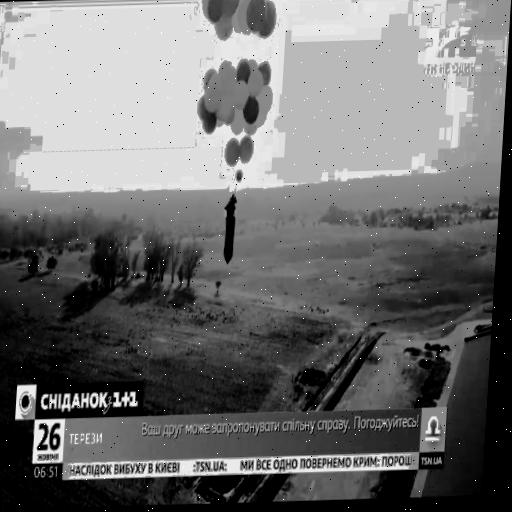balloon: (236, 0, 256, 34), (247, 0, 268, 32), (261, 3, 278, 38), (217, 90, 234, 121), (201, 0, 224, 21), (233, 83, 250, 110), (257, 85, 273, 112), (230, 109, 247, 134), (216, 15, 234, 38), (239, 137, 255, 162), (245, 97, 261, 122), (257, 63, 273, 87), (226, 139, 240, 166), (226, 67, 240, 93), (248, 73, 263, 97), (199, 94, 213, 119), (205, 87, 221, 108), (208, 72, 226, 90), (236, 60, 250, 83), (220, 0, 239, 14), (204, 115, 217, 134), (246, 124, 260, 137), (218, 61, 232, 72), (237, 170, 242, 181)
